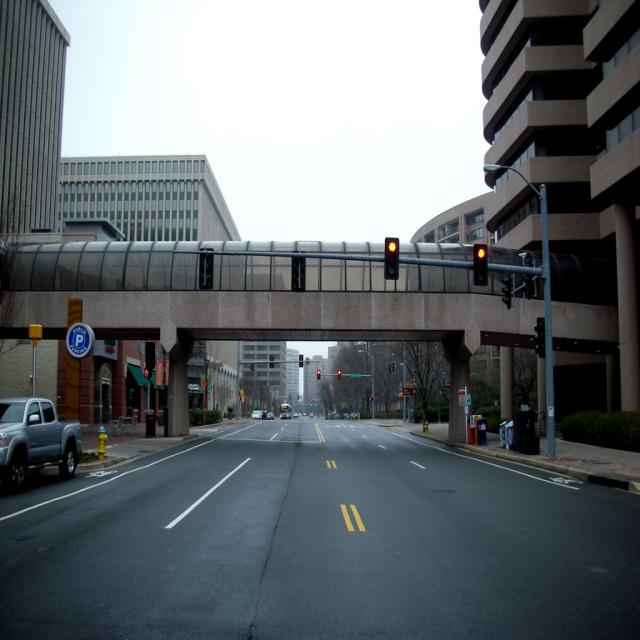car: (249, 408, 259, 417), (259, 409, 264, 418), (291, 411, 296, 415), (308, 409, 313, 413)
